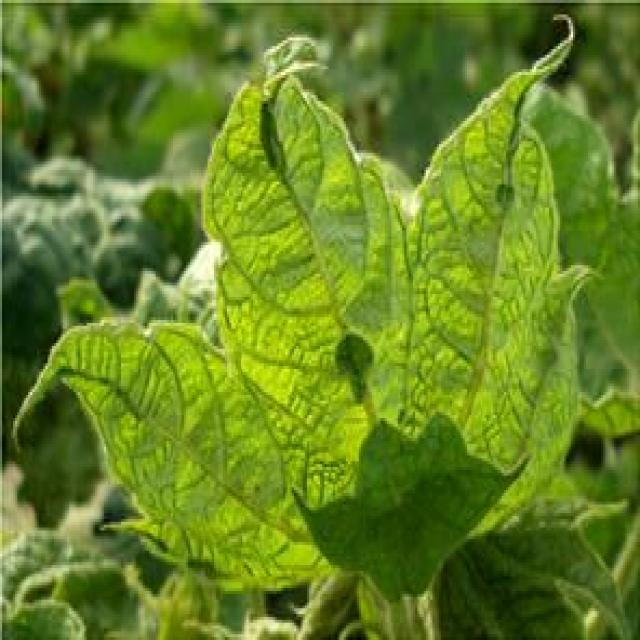Leaf Curl Virus: (213, 107, 514, 585)
